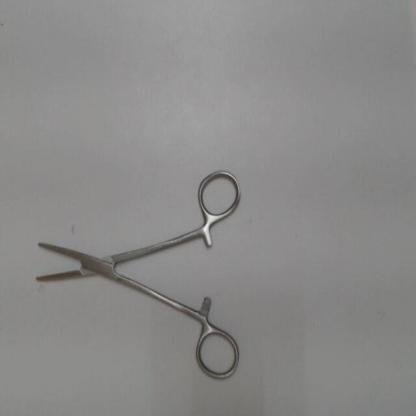Mayo Needle Holder: (27, 164, 245, 387)
